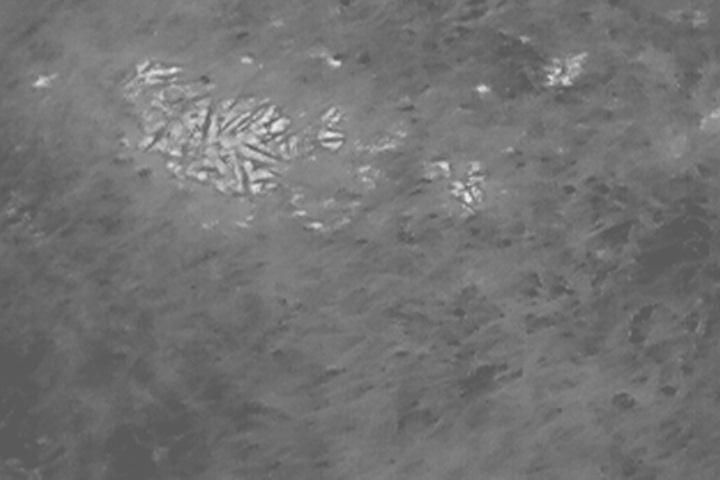landmine: (121, 60, 313, 202)
